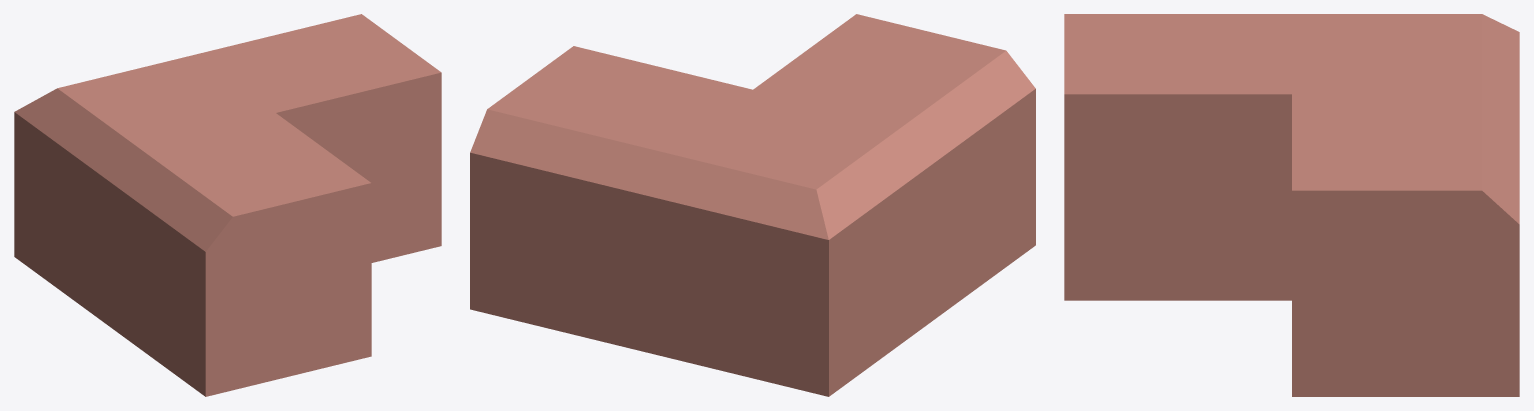
File: TrimBasicWall1x5CornerHard2.fbx
The picture shows the model from 3 angles, left to right: view 1: azimuth 30°, elevation 25°; view 2: azimuth 150°, elevation 25°; view 3: azimuth 270°, elevation 25°; orthographic projection. The views are drawn at different scales.
Visible parts, largest first — view 1: TrimBasicWall1x5CornerHard2.001; view 2: TrimBasicWall1x5CornerHard2.001; view 3: TrimBasicWall1x5CornerHard2.001.
Part boxes in pixels (box(x1,y1,x2,y2)): TrimBasicWall1x5CornerHard2.001: box(14, 14, 441, 396); TrimBasicWall1x5CornerHard2.001: box(470, 14, 1035, 396); TrimBasicWall1x5CornerHard2.001: box(1064, 14, 1519, 396).
Size of the model in its own units: 200 by 100 by 200.
